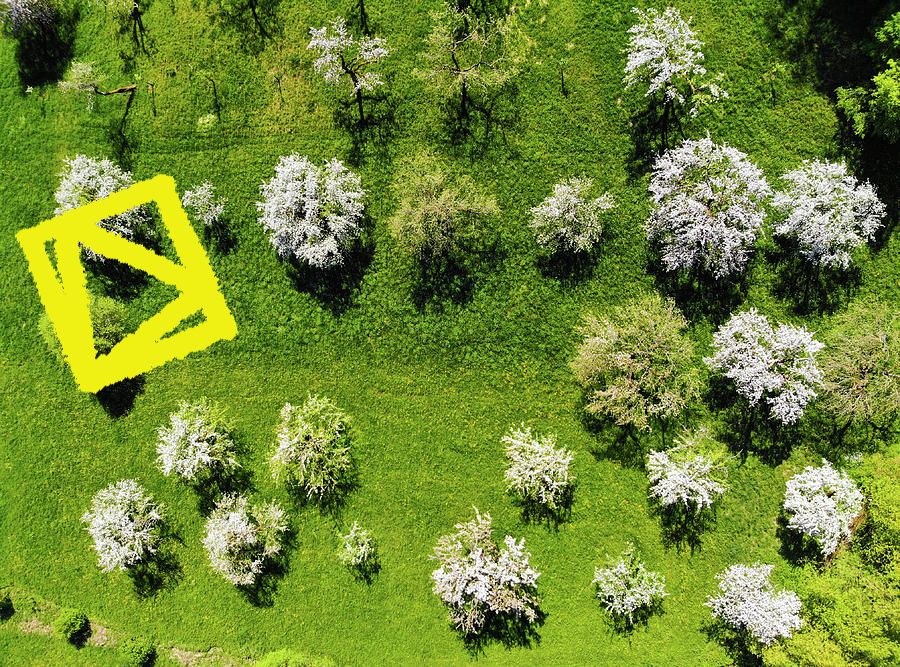marker: (6, 167, 251, 399)
